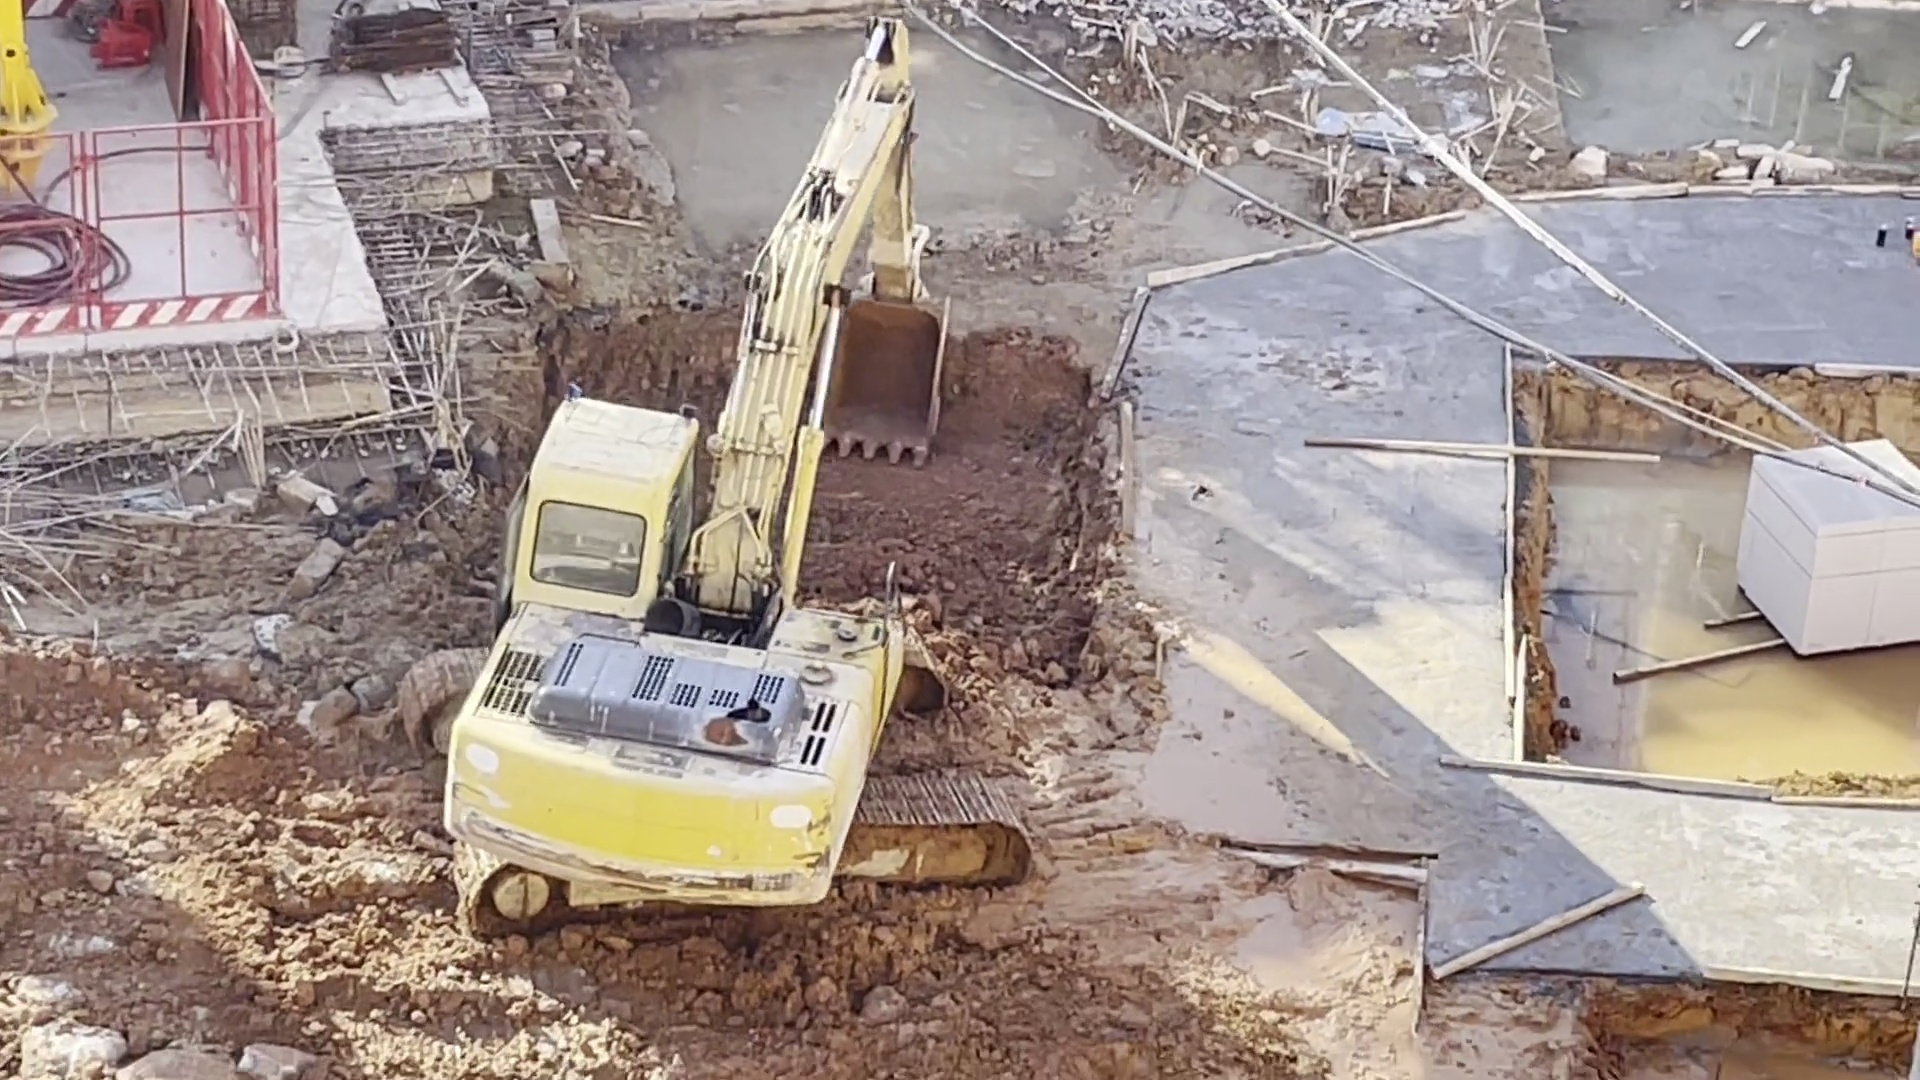brick: (1727, 485, 1920, 665)
fence: (17, 116, 269, 332), (193, 7, 280, 320)
